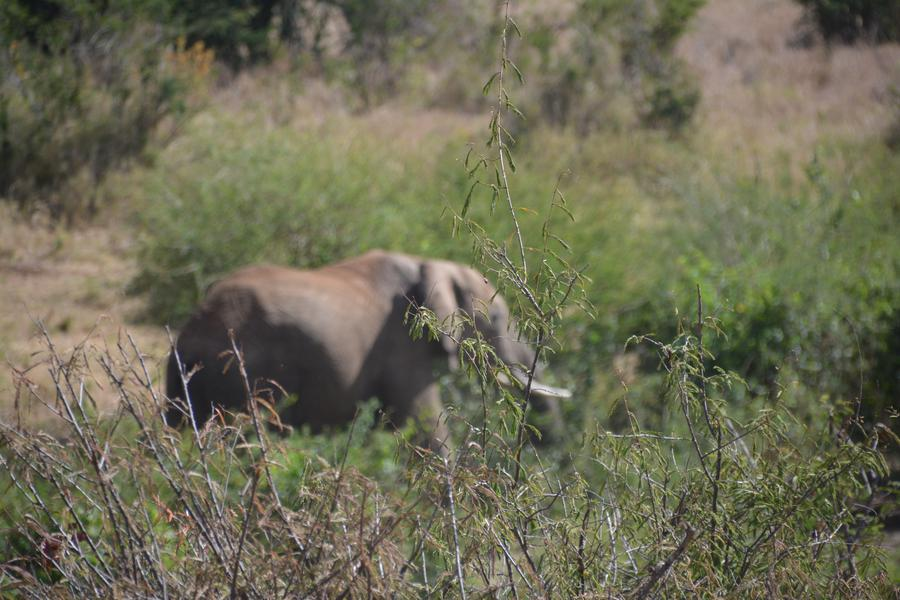elephant: (161, 253, 572, 461)
